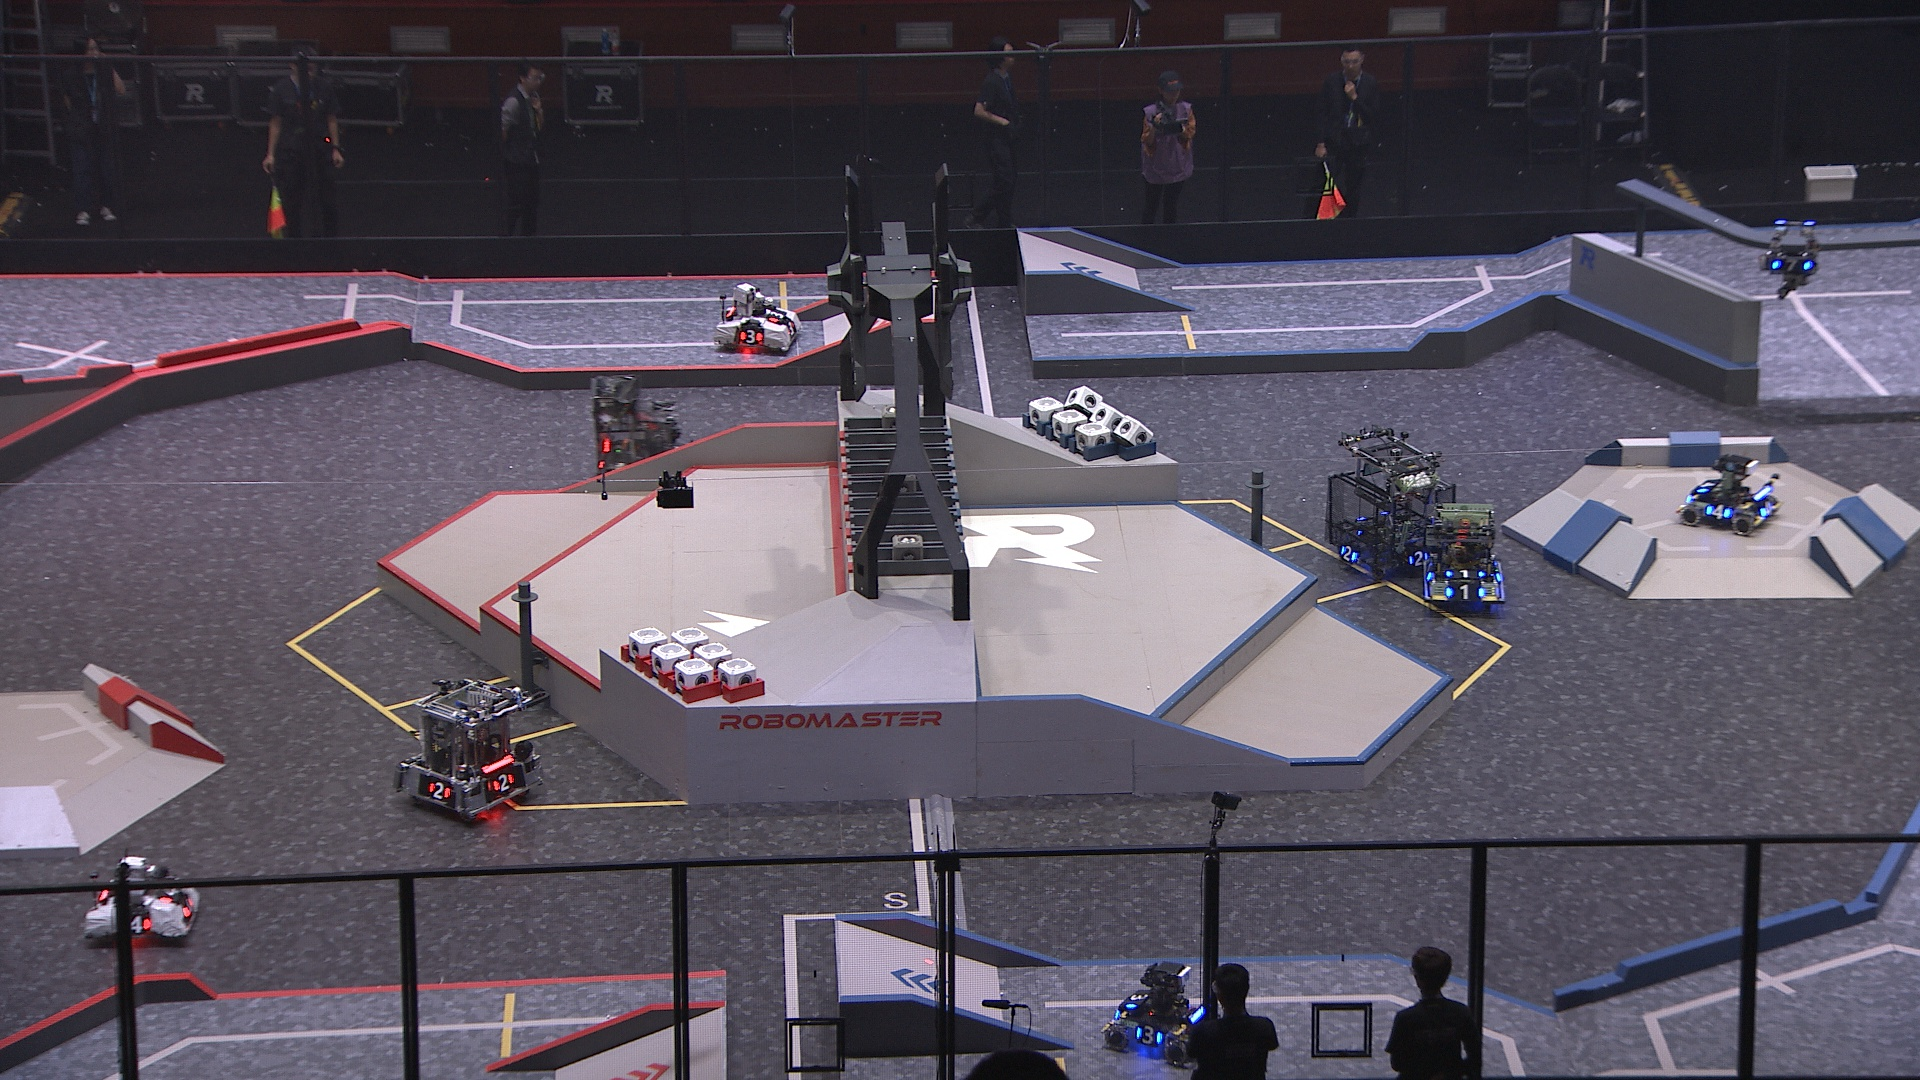armor: (1443, 566, 1489, 582), (1135, 1025, 1164, 1048), (1447, 583, 1486, 600), (491, 770, 518, 794), (427, 781, 455, 804), (1124, 989, 1153, 1011), (1770, 258, 1813, 273), (1705, 502, 1735, 522), (129, 913, 154, 935), (1406, 547, 1432, 567), (1695, 479, 1721, 496), (178, 895, 199, 916), (1338, 543, 1360, 564), (158, 885, 183, 902), (738, 328, 765, 344), (1759, 498, 1776, 520), (767, 309, 785, 323), (785, 322, 800, 335)
car: (396, 678, 543, 825), (1327, 429, 1461, 583), (585, 373, 705, 498), (1101, 959, 1218, 1067), (82, 855, 200, 944), (1423, 504, 1506, 613), (1677, 455, 1783, 538), (713, 282, 802, 353)
watcher: (1759, 218, 1821, 302)
